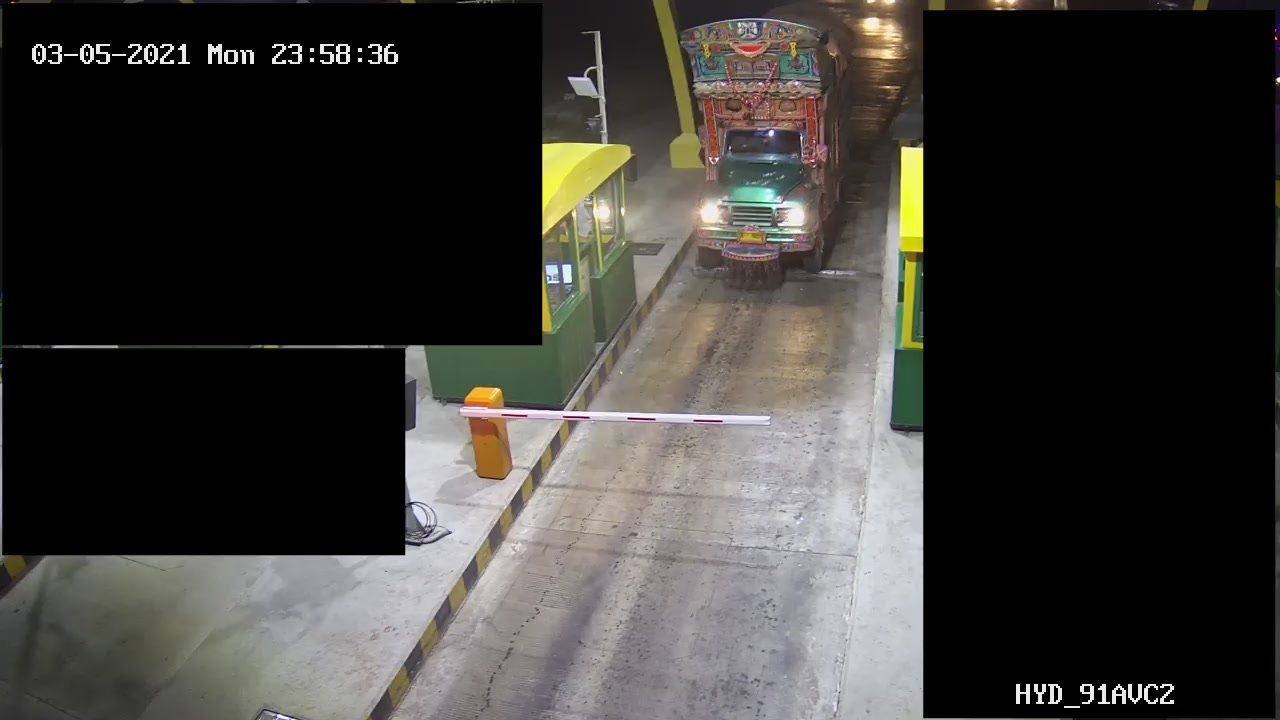F5: (679, 1, 858, 293)
